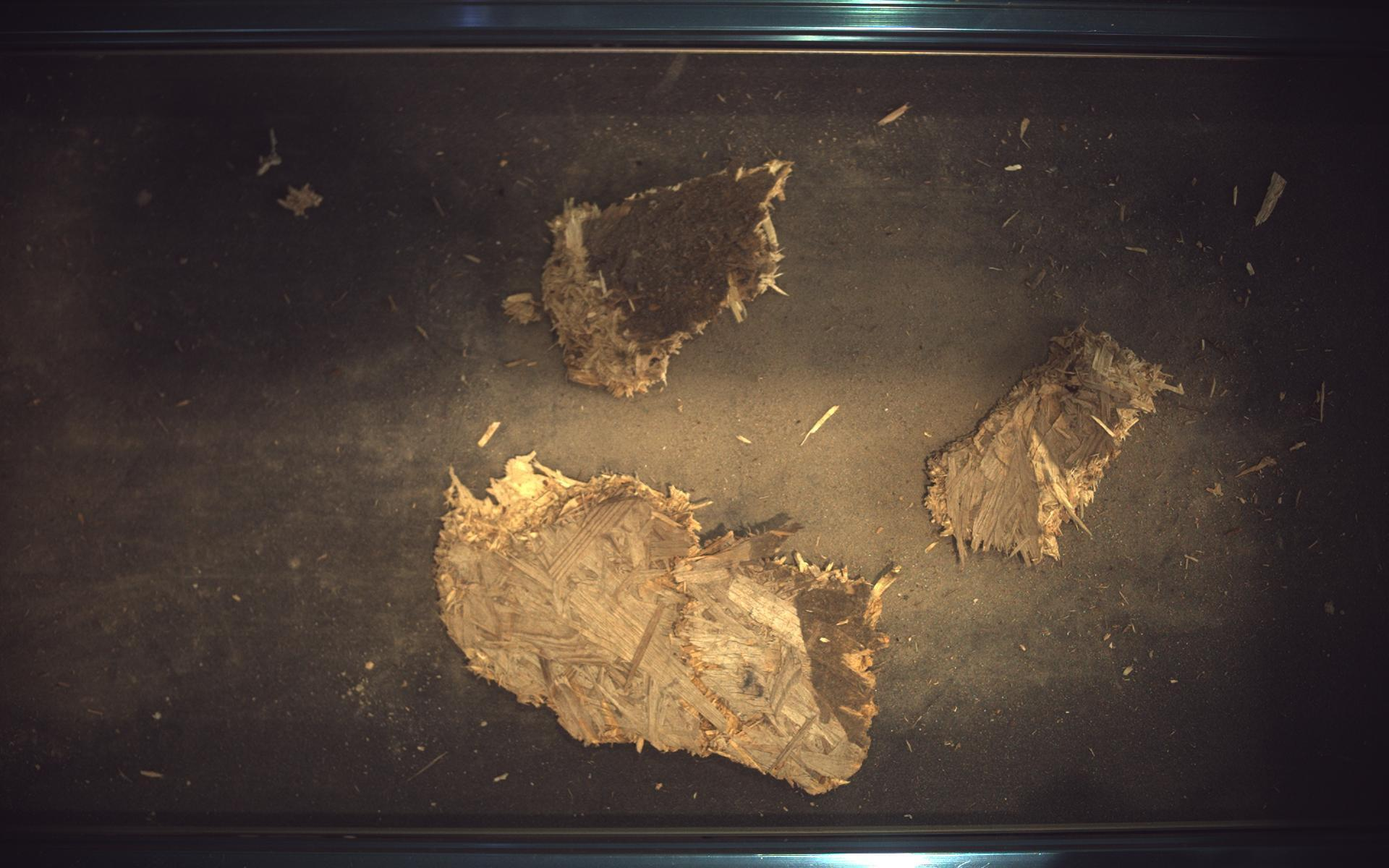wood: (436, 453, 899, 796), (503, 159, 794, 396), (927, 326, 1185, 565)
